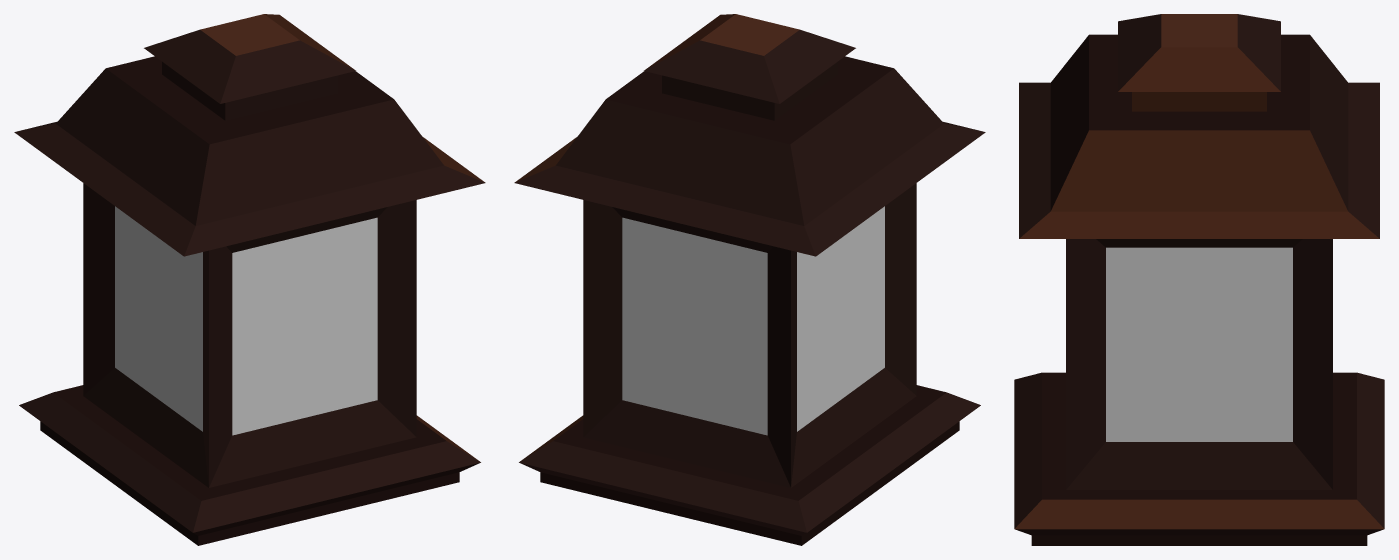
The model's file is lampiao.fbx.
3 views of the same model, side by side, from view 1: azimuth 30°, elevation 25°; view 2: azimuth 150°, elevation 25°; view 3: azimuth 270°, elevation 25° (orthographic). The views are drawn at different scales.
Parts seen in each view (by area): view 1: LamparinaArma, LamparinaEmissivo; view 2: LamparinaArma, LamparinaEmissivo; view 3: LamparinaArma, LamparinaEmissivo.
Part boxes in pixels (left/top/right/bottom): LamparinaArma: left=14, top=14, right=485, bottom=545; LamparinaEmissivo: left=115, top=206, right=377, bottom=435; LamparinaArma: left=514, top=14, right=985, bottom=545; LamparinaEmissivo: left=622, top=206, right=884, bottom=435; LamparinaArma: left=1014, top=14, right=1384, bottom=545; LamparinaEmissivo: left=1106, top=247, right=1292, bottom=441.
Size of the model in its own units: 30 by 40 by 30.
